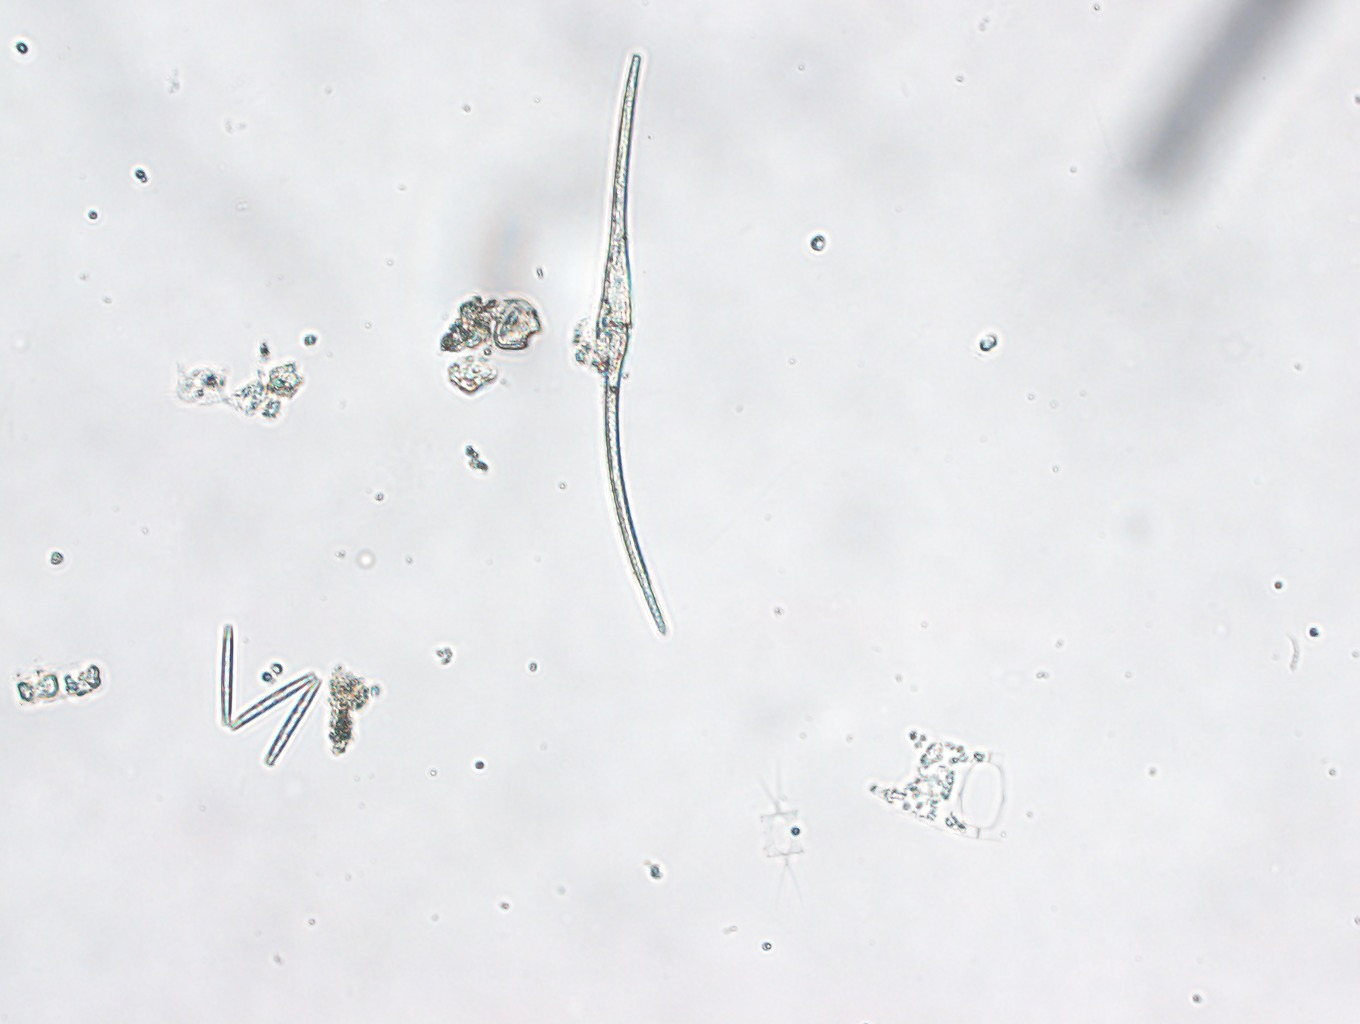ceratium fusus: (572, 53, 668, 642)
chaetoceros: (753, 755, 813, 913)
eucampia: (864, 728, 1018, 840)
thalassionema nitzschioides: (219, 623, 323, 768)
